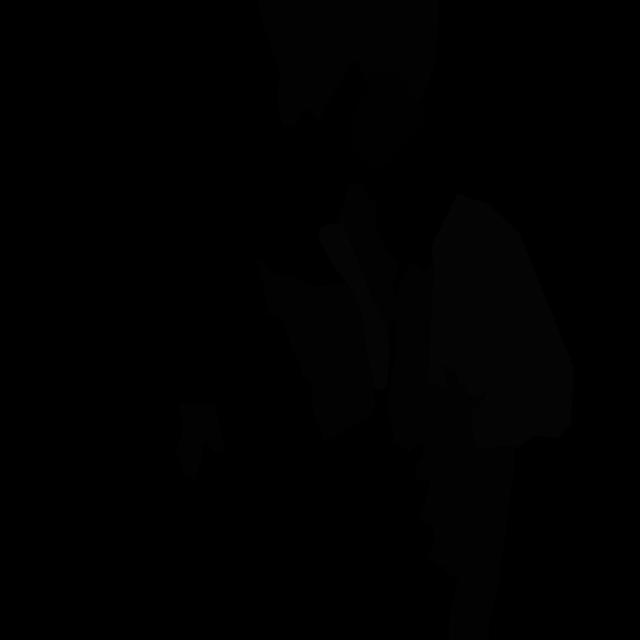cardboard: (257, 0, 438, 127), (254, 260, 376, 443), (412, 367, 494, 567), (442, 446, 515, 640), (386, 260, 448, 452), (338, 182, 398, 332), (174, 404, 226, 479), (468, 393, 486, 416)
rigid_plastic: (348, 70, 429, 168)
soft_plastic: (426, 193, 574, 449), (319, 223, 390, 390)
